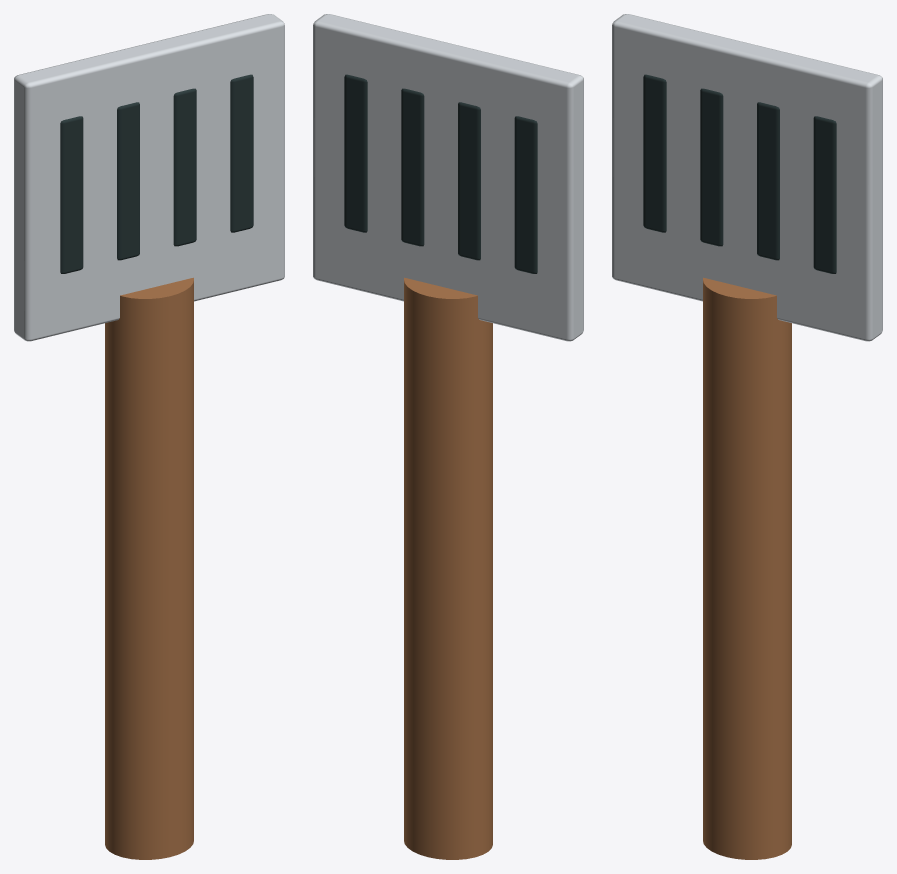
The model's file is wp-ecumoire.glb.
3 views of the same model, side by side, from view 1: azimuth 30°, elevation 25°; view 2: azimuth 150°, elevation 25°; view 3: azimuth 330°, elevation 25° (orthographic).
Visible parts, largest first — view 1: wp-ecumoire; view 2: wp-ecumoire; view 3: wp-ecumoire.
Part boxes in pixels (x1,y1,x2,y2): wp-ecumoire: (14, 14, 284, 859); wp-ecumoire: (313, 14, 583, 859); wp-ecumoire: (612, 14, 882, 859).
Bounding box in the file's own units: 0.11 × 0.32 × 0.03.
